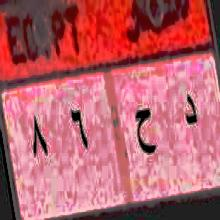6: (70, 102, 90, 162)
7aa: (131, 101, 159, 165)
8: (26, 112, 51, 166)
daal: (180, 88, 202, 138)
